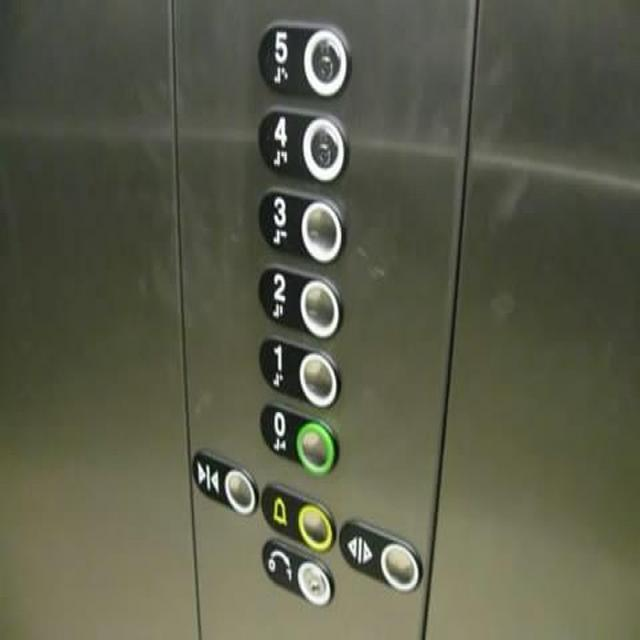0: (253, 403, 342, 473)
1: (255, 336, 342, 409)
2: (254, 261, 348, 340)
3: (252, 183, 349, 264)
4: (253, 103, 352, 188)
5: (254, 21, 351, 99)
alarm: (256, 478, 333, 554)
close: (190, 443, 258, 512)
open: (339, 515, 427, 593)
unknown: (257, 532, 335, 609)
